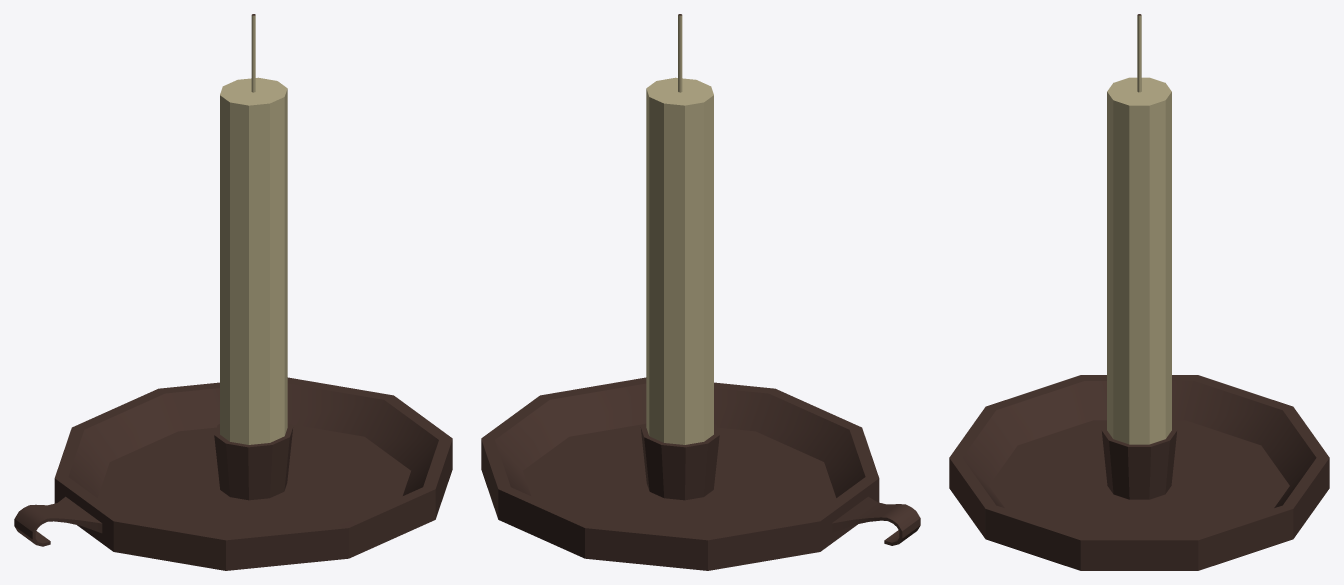
Rendered from Candle_1.fbx.
3 views of the same model, side by side, from view 1: azimuth 30°, elevation 25°; view 2: azimuth 150°, elevation 25°; view 3: azimuth 270°, elevation 25° (orthographic).
Visible parts, largest first — view 1: Candle 6.001; view 2: Candle 6.001; view 3: Candle 6.001.
Part boxes in pixels (<box>): Candle 6.001: <box>14,14,452,570</box>; Candle 6.001: <box>481,14,920,570</box>; Candle 6.001: <box>949,14,1329,570</box>.
Bounding box in the file's own units: 61.75 × 69.85 × 50.86.
